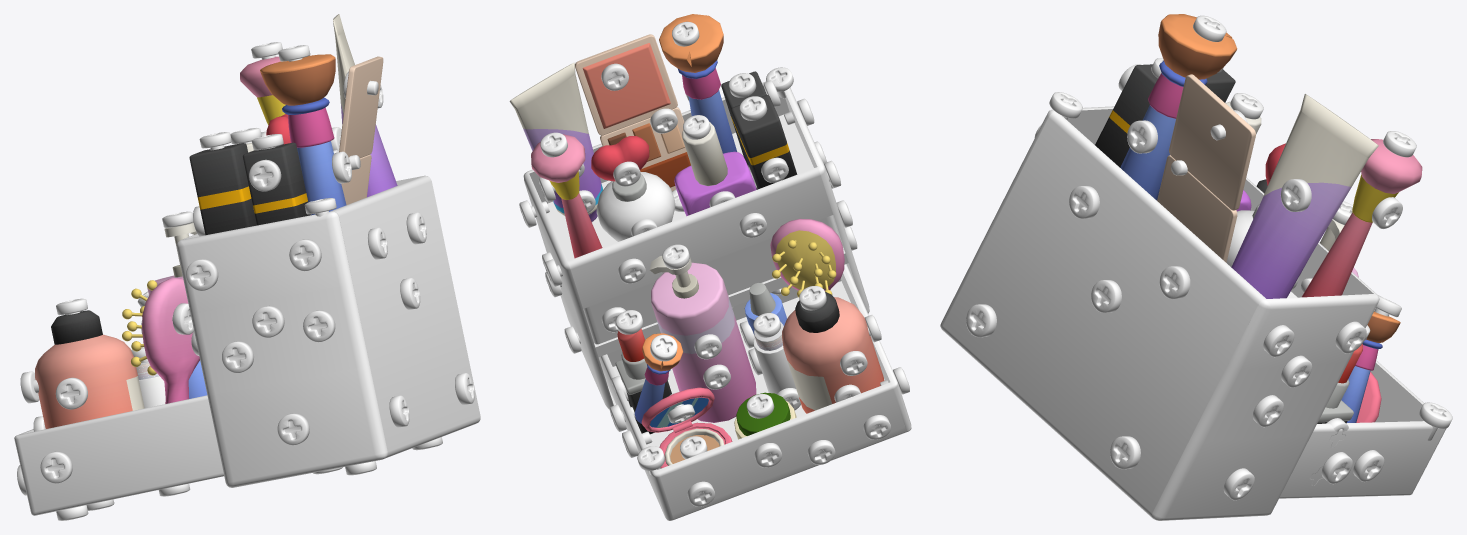
Rendered from Cosmetics_GroupE.fbx.
3 renders of one model, left to right at view 1: azimuth 30°, elevation 25°; view 2: azimuth 150°, elevation 25°; view 3: azimuth 270°, elevation 25°, orthographic. The views are drawn at different scales.
Parts seen in each view (by area): view 1: Board_022, Board_032, Board_020, Board_029, Board_028, Board_005, Board_018, Screw (×9), Board_014, Board_008, Board_012, Board_007 (+8 smaller); view 2: Board_021, Screw (×20), Board_033, Board_006, Board_012, Board_005, Board_013, Board_011, Board_018, Board_014, Board_015, Board_038 (+25 smaller); view 3: Board_022, Board_011, Board_012, Screw (×13), Board_019, Board_031, Board_027, Board_026, Board_018, Board_009, Board_007, Screw (1) (×3) (+11 smaller).
Part boxes in pixels (box(x1,y1,x2,y2)): Board_022: box(330, 176, 480, 458); Board_032: box(14, 395, 223, 515); Board_020: box(207, 365, 387, 487); Board_029: box(190, 283, 369, 395); Board_028: box(176, 211, 352, 313); Board_005: box(35, 310, 144, 428); Board_018: box(260, 54, 346, 215); Screw (×9): box(40, 151, 420, 483); Board_014: box(122, 278, 199, 403); Board_008: box(189, 143, 256, 235); Board_012: box(339, 56, 383, 204); Board_007: box(242, 142, 310, 225); Board_021: box(567, 167, 833, 308); Screw (×20): box(540, 21, 826, 506); Board_033: box(657, 382, 904, 514); Board_006: box(649, 256, 756, 422); Board_012: box(575, 34, 690, 191); Board_005: box(782, 291, 884, 413); Board_013: box(591, 136, 675, 241); Board_011: box(509, 62, 603, 221); Board_018: box(659, 14, 737, 153); Board_014: box(770, 218, 844, 297); Board_015: box(674, 121, 756, 216); Board_038: box(590, 217, 828, 339); Board_022: box(942, 112, 1265, 517); Board_011: box(1231, 94, 1378, 298); Board_012: box(1157, 74, 1255, 262); Screw (×13): box(1069, 15, 1416, 500); Board_019: box(1151, 435, 1310, 520); Board_031: box(1279, 421, 1446, 498); Board_027: box(1191, 363, 1347, 441); Board_026: box(1228, 294, 1379, 368); Board_018: box(1120, 14, 1237, 200); Board_009: box(1302, 139, 1422, 297); Board_007: box(1095, 64, 1157, 167); Screw (1) (×3): box(1159, 266, 1384, 481).
Bounding box in the file's own units: 10.15 × 11.12 × 10.03.
5 materials, 2 textured.
